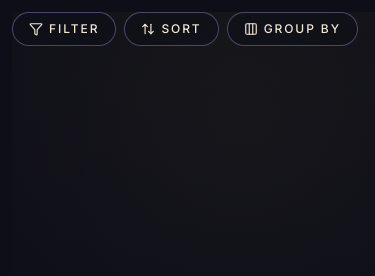
Test: BoardToolbar › opens sort panel when Sort button is clicked
What coordinates should you click on to do the following:
click the button "Sort"
I would click on:
 (172, 29)
Its box is [124,12,219,46].
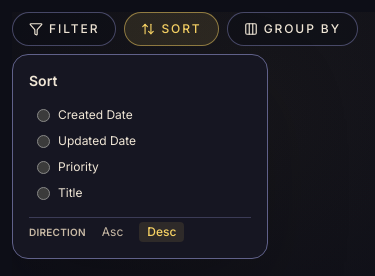
Check: the text "Created Date" is shown, box [58,107,133,123]
Check: the text "Updated Date" is shown, box [58,133,136,149]
